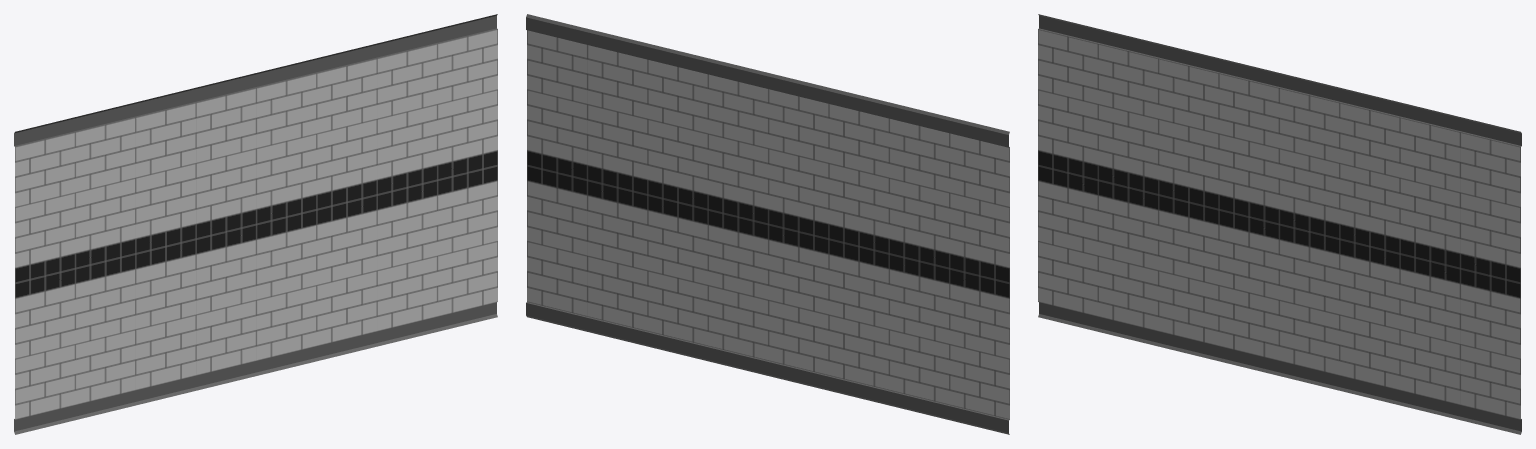
The model's file is SW_ENV_StationWall_A_5m.fbx.
3 views of the same model, side by side, from view 1: azimuth 30°, elevation 25°; view 2: azimuth 150°, elevation 25°; view 3: azimuth 330°, elevation 25° (orthographic).
Visible parts, largest first — view 1: SW_ENV_StationWall_A_5m; view 2: SW_ENV_StationWall_A_5m; view 3: SW_ENV_StationWall_A_5m.
Part boxes in pixels (bbox=[...]): SW_ENV_StationWall_A_5m: bbox=[14, 14, 497, 434]; SW_ENV_StationWall_A_5m: bbox=[526, 14, 1009, 434]; SW_ENV_StationWall_A_5m: bbox=[1038, 14, 1521, 434].
Bounding box in the file's own units: 500 × 300 × 2.
